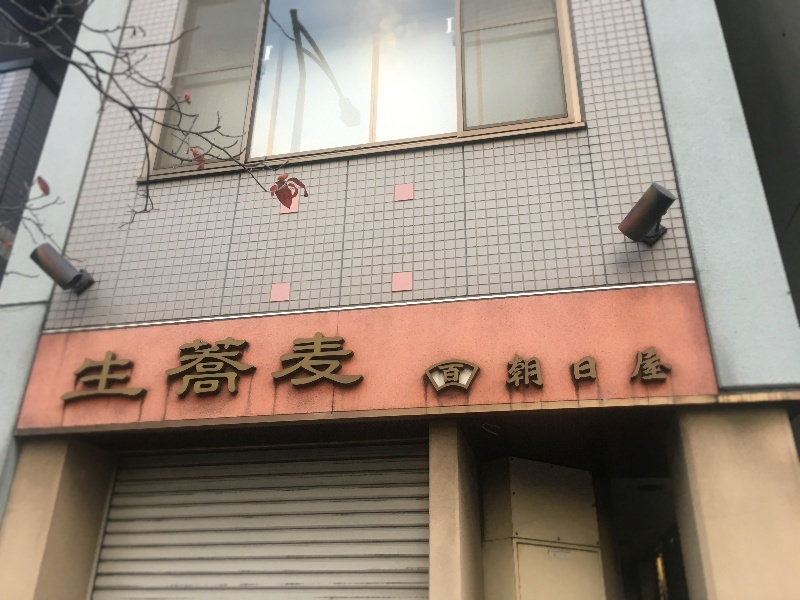text: (353, 329, 369, 403), (97, 329, 112, 403), (113, 329, 128, 403), (129, 329, 144, 403), (145, 329, 160, 403), (161, 329, 176, 403), (177, 329, 192, 403), (193, 329, 208, 403), (209, 329, 224, 403), (225, 329, 240, 403), (241, 329, 256, 403), (257, 329, 272, 403), (273, 329, 288, 403), (289, 329, 304, 403), (305, 329, 320, 403), (321, 329, 336, 403), (337, 329, 352, 403), (86, 329, 96, 403), (657, 346, 673, 390), (513, 346, 528, 390), (529, 346, 544, 390), (545, 346, 560, 390), (561, 346, 576, 390), (577, 346, 592, 390), (593, 346, 608, 390), (609, 346, 624, 390), (625, 346, 640, 390), (641, 346, 656, 390), (449, 363, 464, 384), (438, 363, 448, 384), (508, 346, 512, 390)
